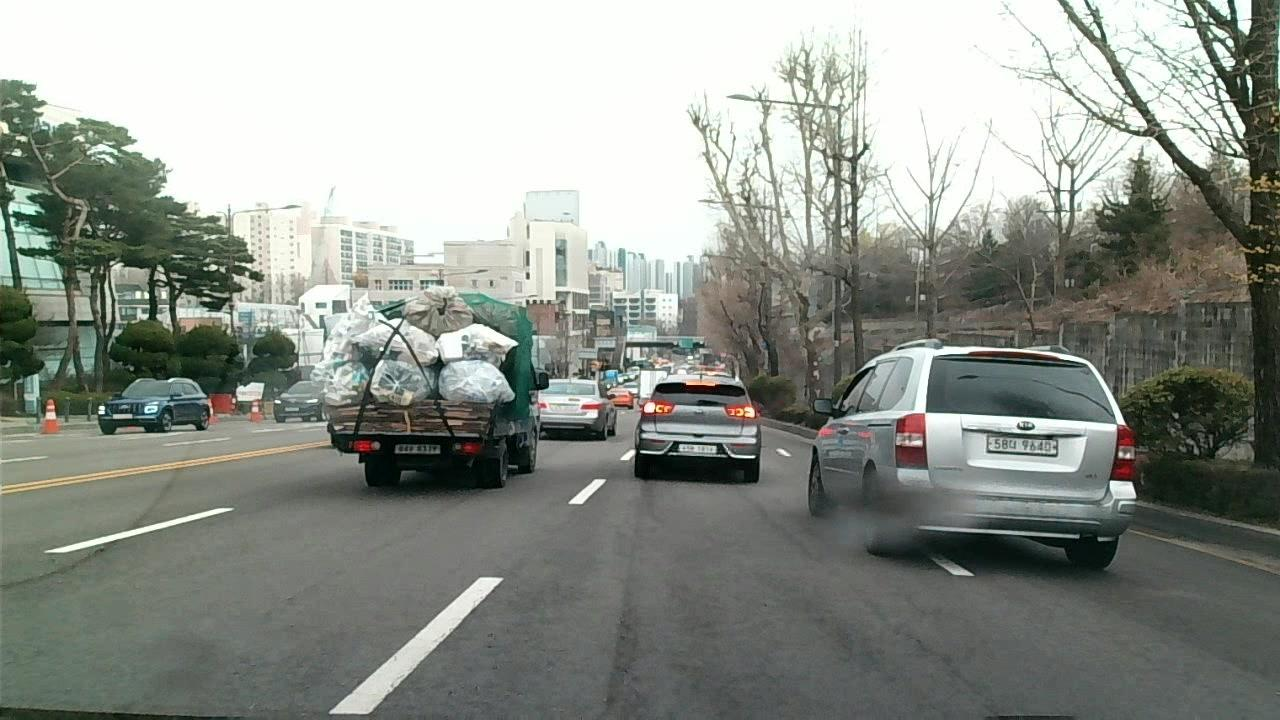banner: (846, 586, 993, 706)
